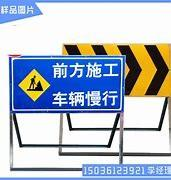sign: (9, 56, 124, 113)
